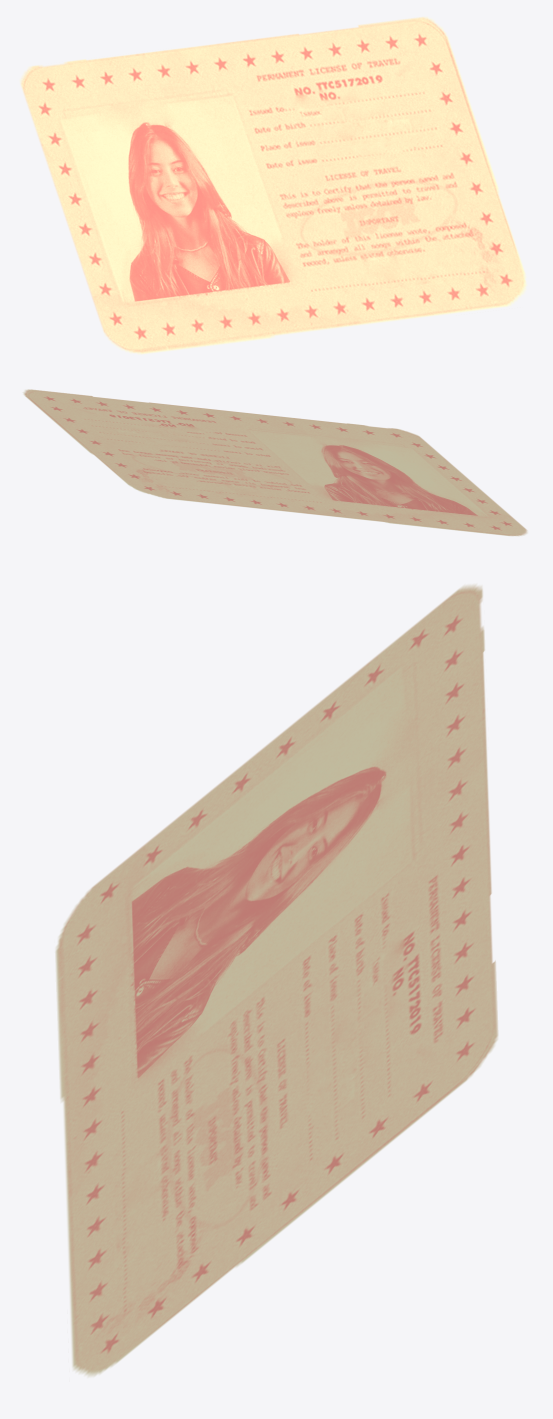
File: 3Dcard.glb
3 views of the same model, one above another, from view 1: azimuth 30°, elevation 25°; view 2: azimuth 150°, elevation 25°; view 3: azimuth 270°, elevation 25° (orthographic). The views are drawn at different scales.
Visible parts, largest first — view 1: 3D Malha; view 2: 3D Malha; view 3: 3D Malha.
Boxes of the visible parts, x1,y1,x2,y2 form: 3D Malha: (20,17,526,354); 3D Malha: (23,389,527,536); 3D Malha: (55,584,498,1377).
Size of the model in its own units: 3.42 by 1.85 by 1.6.
1 material, 1 textured.
